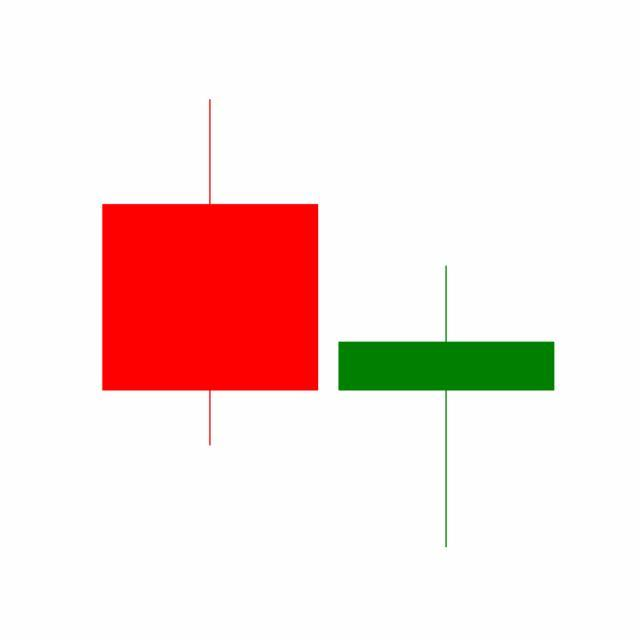Spinning Top: (328, 264, 566, 552)
